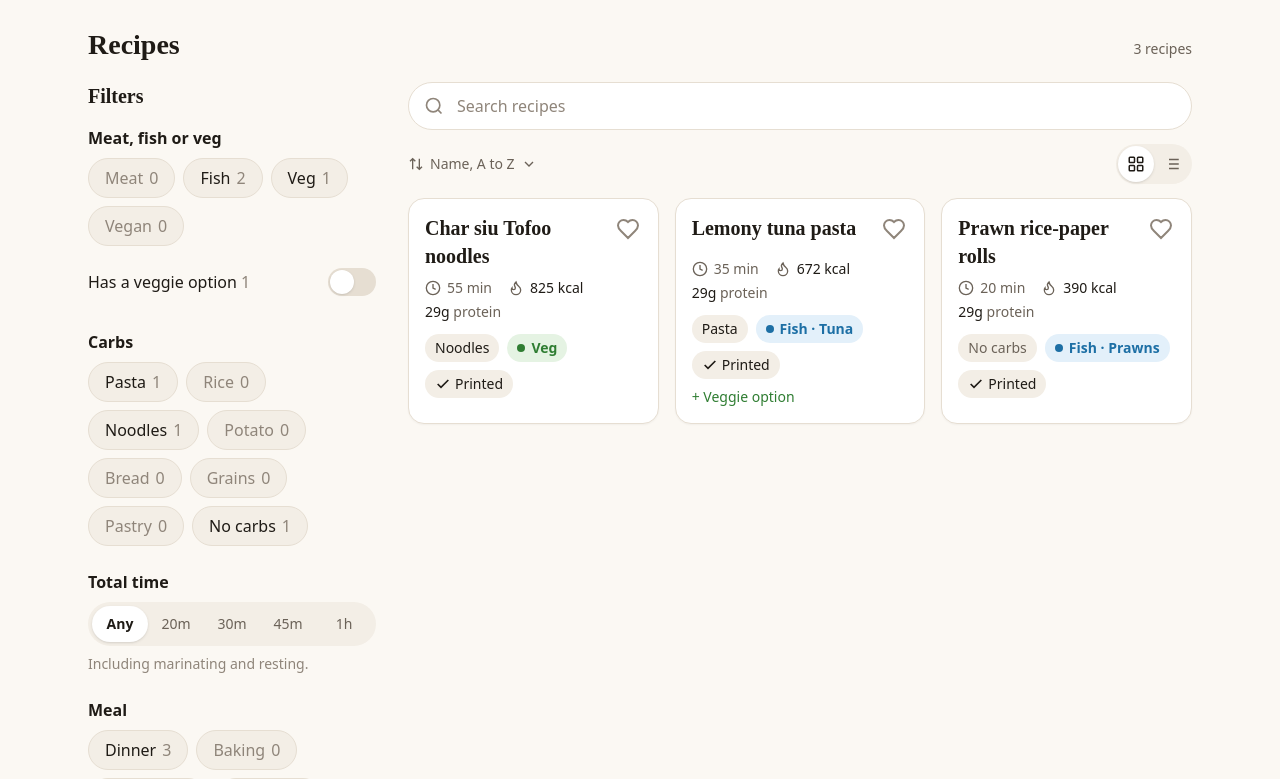
search, filters and sort (PP-167) › searches as you type, marking the match and showing a matched ingredient
Type "tuna" into the search field labelled "Search recipes". click: (800, 106)
box: x1=408 y1=82 x2=1192 y2=130
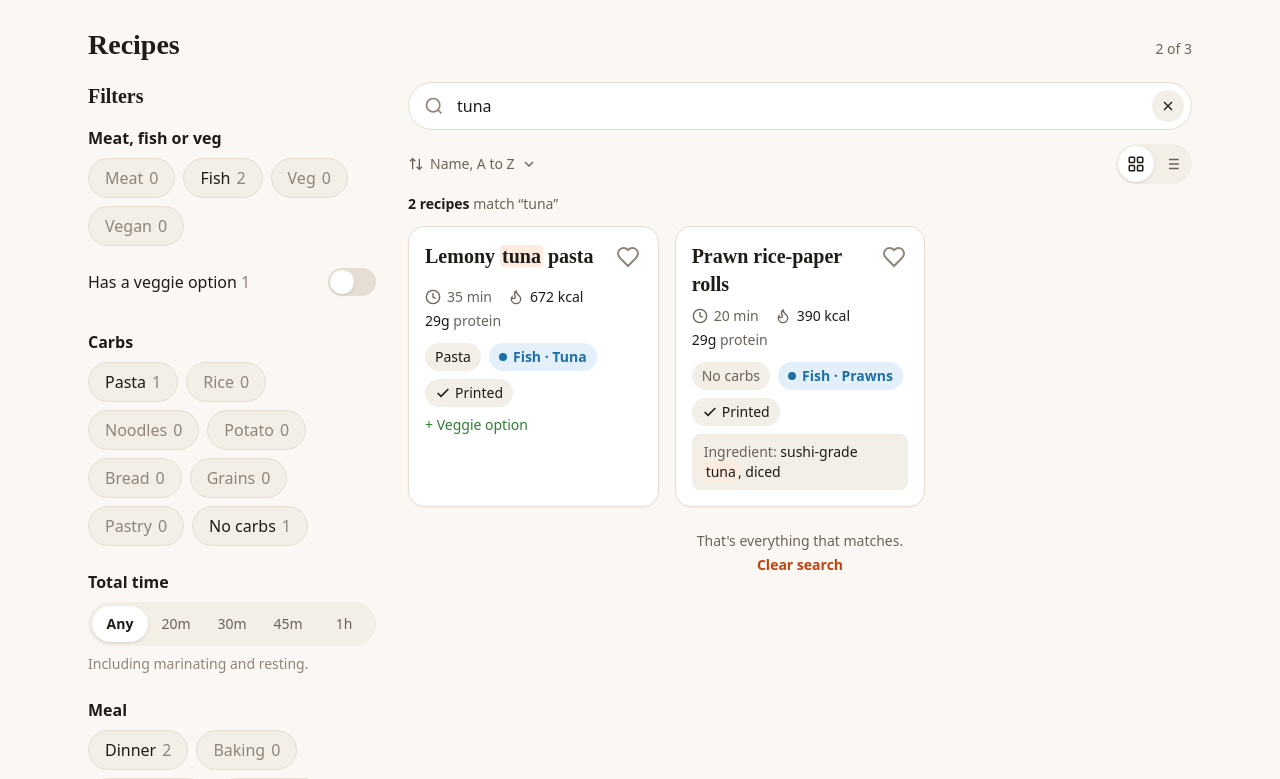
Result: the text "2 of 3" is shown at x1=1155 y1=39 x2=1192 y2=58
Result: the message reads "2 recipes match “tuna”" at x1=408 y1=194 x2=558 y2=213
Result: the text "tuna" is shown at x1=500 y1=245 x2=543 y2=267
